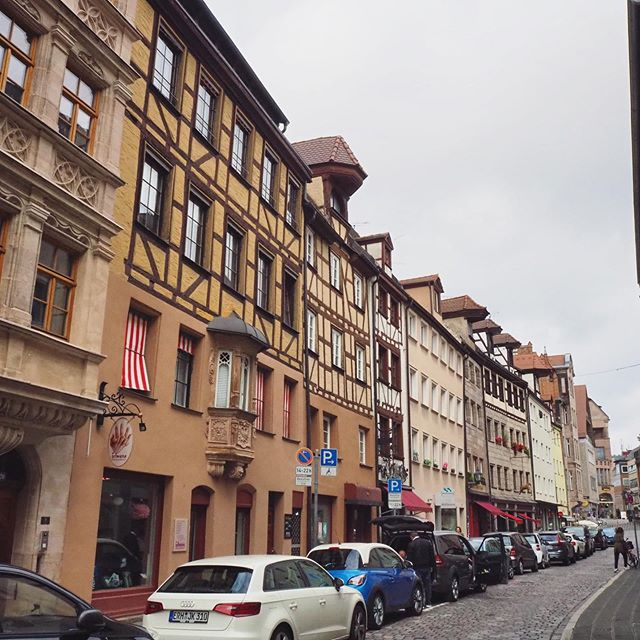building: (62, 23, 318, 625), (1, 6, 139, 640), (303, 187, 382, 580), (463, 296, 530, 550), (411, 262, 468, 558), (368, 240, 409, 563), (539, 359, 602, 527)
car: (149, 556, 371, 640), (319, 548, 426, 621), (400, 528, 481, 593)
sky: (271, 1, 634, 392)
